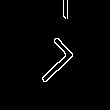L_SW: (19, 35, 76, 92)
